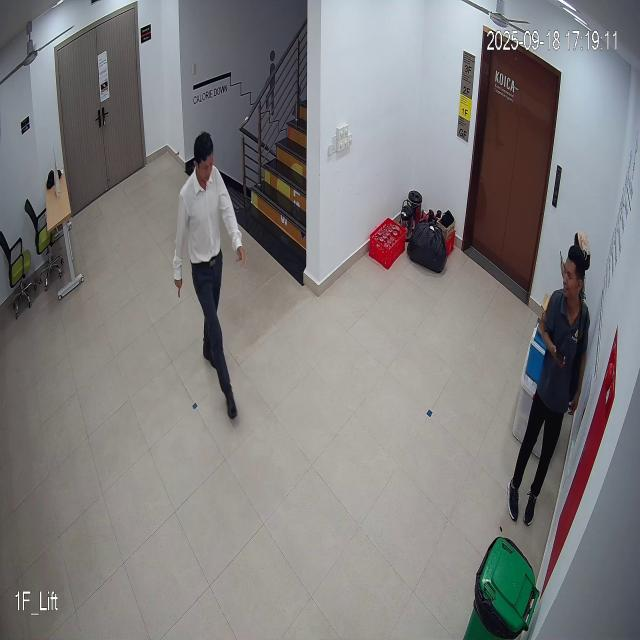face: (191, 128, 216, 187)
